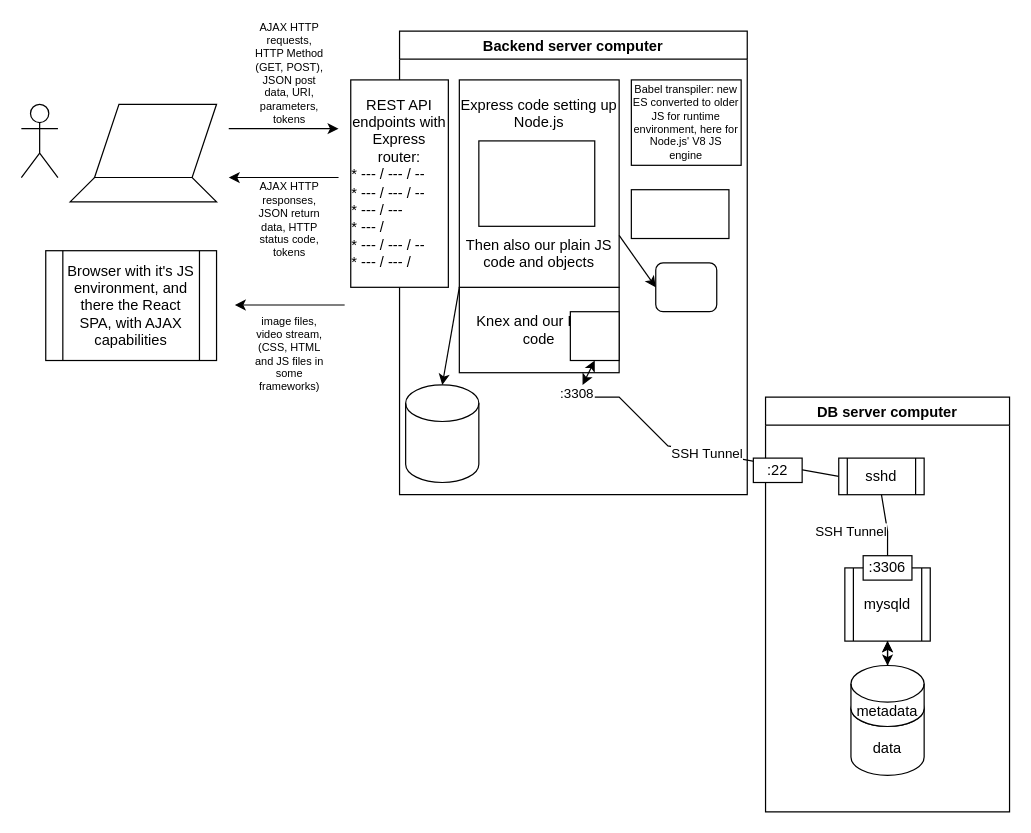
The diagram is 1031 pixels wide and 833 high, and some of its shapes have lost their labels. The centre of each missing label's shape, as x and y in pixels:
"(Node.js)" goes at (536,183).
"(winston) log files" goes at (441,433).
"Actor" goes at (39,140).
"backend server's console" goes at (686,287).
"frontend" goes at (155,140).
"mysql (driver)" goes at (594,335).
"system's env variables" goes at (679,213).
